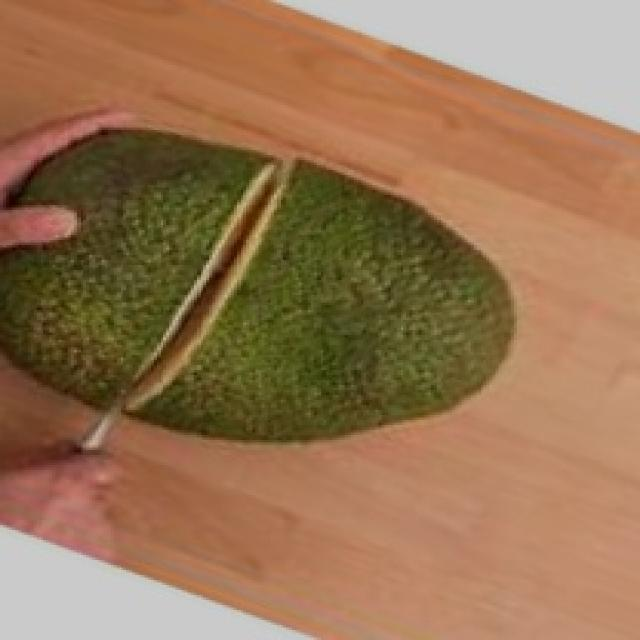Fruit: (138, 140, 544, 478)
